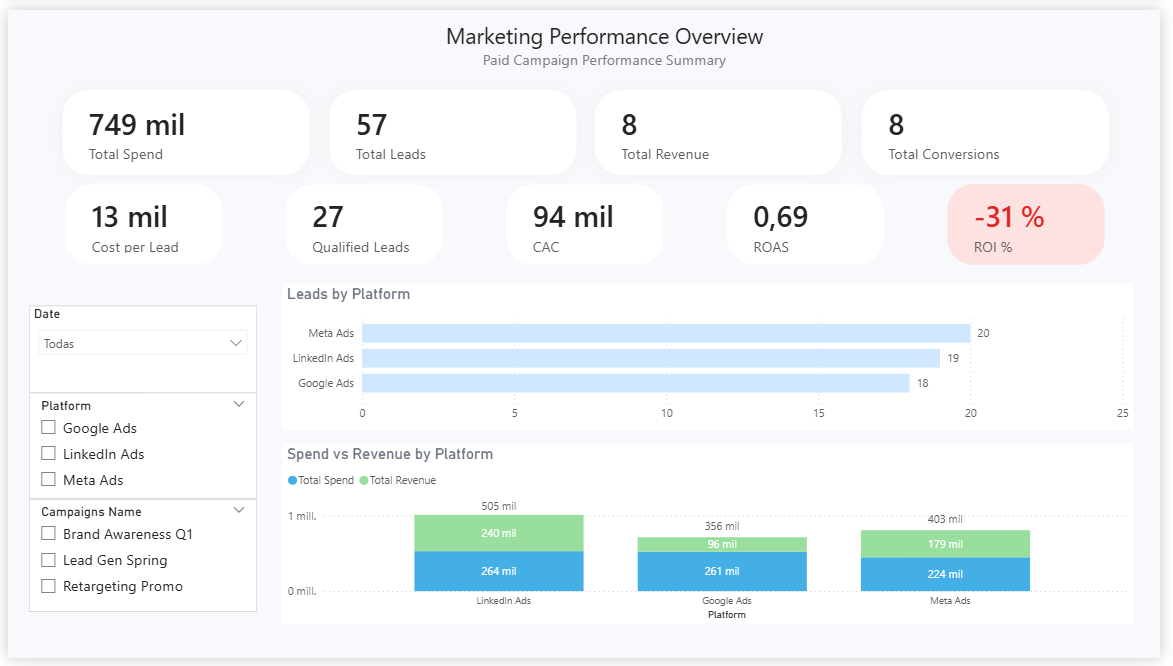

The dashboard page shown, as its layout file describes it:
{"tool":"powerbi","page":{"name":"OVERVIEW ","canvas":[1280,720],"ordinal":0},"visuals":[{"type":"textbox","box":[396,7,532,69],"z":0},{"type":"cardVisual","fields":{"Data":["campaigns.Total Spend"]},"box":[60,88,275,95],"z":1000},{"type":"cardVisual","fields":{"Data":["campaigns.Total Leads"]},"box":[356,88,275,95],"z":2000},{"type":"cardVisual","fields":{"Data":["campaigns.Qualified Leads"]},"box":[308,193,175,90],"z":3000},{"type":"cardVisual","fields":{"Data":["campaigns.Total Conversions"]},"box":[948,88,275,95],"z":4000},{"type":"cardVisual","fields":{"Data":["CountNonNull(conversions.Revenue)"]},"box":[652,88,275,95],"z":5000},{"type":"cardVisual","fields":{"Data":["campaigns.CPL"]},"box":[63,193,175,90],"z":6000},{"type":"cardVisual","fields":{"Data":["campaigns.CAC"]},"box":[553,193,175,90],"z":7000},{"type":"cardVisual","fields":{"Data":["campaigns.ROAS"]},"box":[798,193,175,90],"z":8000},{"type":"cardVisual","fields":{"Data":["campaigns.ROI %"]},"box":[1043,193,175,90],"z":9000},{"type":"clusteredBarChart","title":"Leads by Platform","fields":{"Category":["campaigns.Platform"],"Y":["campaigns.Total Leads"]},"box":[305,305,945,161],"z":10000},{"type":"columnChart","title":"Spend vs Revenue by Platform","fields":{"Y":["campaigns.Total Spend","campaigns.Total Revenue"],"Category":["campaigns.Platform"]},"box":[305,484,945,199],"z":11000},{"type":"slicer","title":"   Date","fields":{"Values":["campaigns.StartDate.Variación.Jerarquía de fechas.Año","campaigns.StartDate.Variación.Jerarquía de fechas.Mes"]},"box":[24,328,253,97],"z":12000},{"type":"slicer","fields":{"Values":["campaigns.CampaignName"]},"box":[23,543,253,125],"z":13000},{"type":"slicer","fields":{"Values":["campaigns.Platform"]},"box":[23,425,253,118],"z":14000}]}

Visuals, with their boxes in screenshot pixels (x1, y1, x2, y2), scaled from the page's 1280x720 canvas onto the 1173x666 screenshot:
textbox: <region>363, 6, 850, 70</region>
cardVisual - campaigns.Total Spend: <region>55, 81, 307, 169</region>
cardVisual - campaigns.Total Leads: <region>326, 81, 578, 169</region>
cardVisual - campaigns.Qualified Leads: <region>282, 179, 443, 262</region>
cardVisual - campaigns.Total Conversions: <region>869, 81, 1121, 169</region>
cardVisual - CountNonNull(conversions.Revenue): <region>597, 81, 850, 169</region>
cardVisual - campaigns.CPL: <region>58, 179, 218, 262</region>
cardVisual - campaigns.CAC: <region>507, 179, 667, 262</region>
cardVisual - campaigns.ROAS: <region>731, 179, 892, 262</region>
cardVisual - campaigns.ROI %: <region>956, 179, 1116, 262</region>
"Leads by Platform" clusteredBarChart: <region>280, 282, 1146, 431</region>
"Spend vs Revenue by Platform" columnChart: <region>280, 448, 1146, 632</region>
"   Date" slicer: <region>22, 303, 254, 393</region>
slicer - campaigns.CampaignName: <region>21, 502, 253, 618</region>
slicer - campaigns.Platform: <region>21, 393, 253, 502</region>
